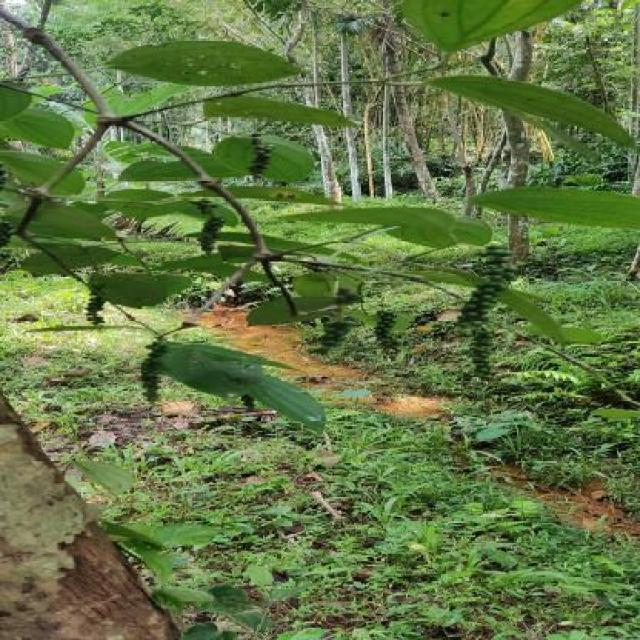UNRIPE: (452, 243, 511, 380), (186, 199, 225, 253), (308, 320, 357, 355), (139, 342, 166, 400), (240, 134, 277, 175), (369, 309, 403, 349), (79, 285, 106, 326)
